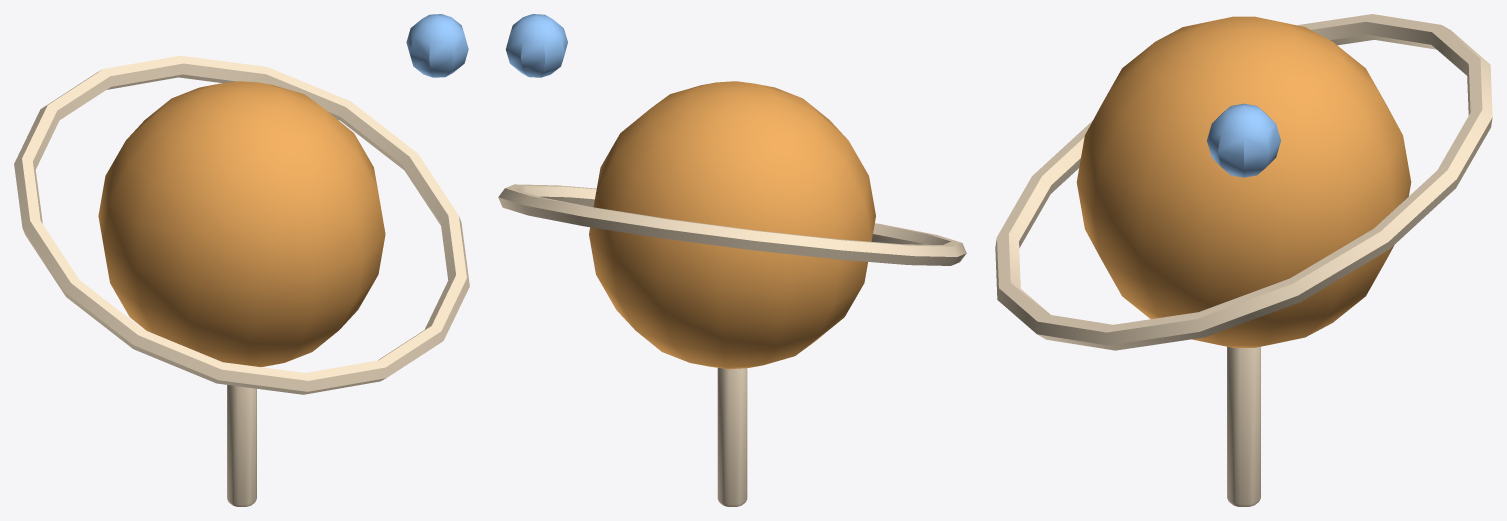
File: DecoPlanet.fbx
The picture shows the model from 3 angles, left to right: view 1: azimuth 30°, elevation 25°; view 2: azimuth 150°, elevation 25°; view 3: azimuth 270°, elevation 25°; orthographic projection. The views are drawn at different scales.
Visible parts, largest first — view 1: DecoPlanet; view 2: DecoPlanet; view 3: DecoPlanet.
Boxes of the visible parts, x1,y1,x2,y2 form: DecoPlanet: (14,14,469,506); DecoPlanet: (498,14,966,506); DecoPlanet: (995,14,1492,506).
Size of the model in its own units: 304 by 300 by 268.
